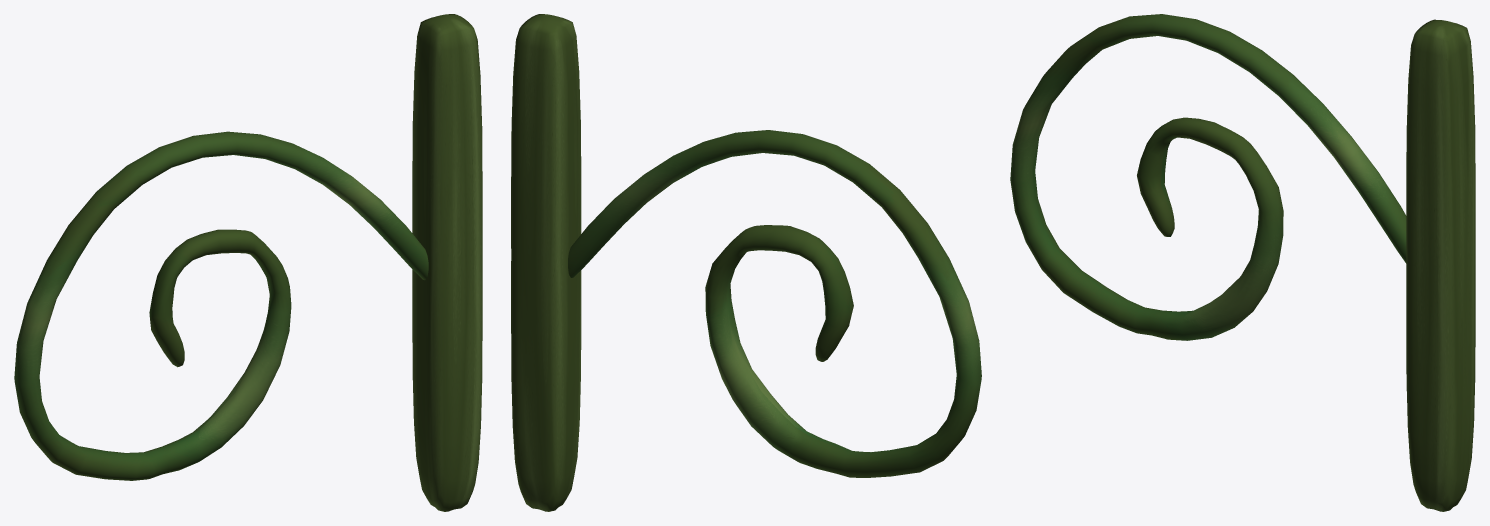
File: FruitRailing3.fbx
The picture shows the model from 3 angles, left to right: view 1: azimuth 30°, elevation 25°; view 2: azimuth 150°, elevation 25°; view 3: azimuth 330°, elevation 25°; orthographic projection.
Visible parts, largest first — view 1: FruitRailing3; view 2: FruitRailing3; view 3: FruitRailing3.
Boxes of the visible parts, <box> form: FruitRailing3: <box>14,14,482,511</box>; FruitRailing3: <box>511,14,981,511</box>; FruitRailing3: <box>1010,14,1475,511</box>.
Size of the model in its own units: 151 by 155 by 17.23.
Materials: 1 (1 with a texture image).
